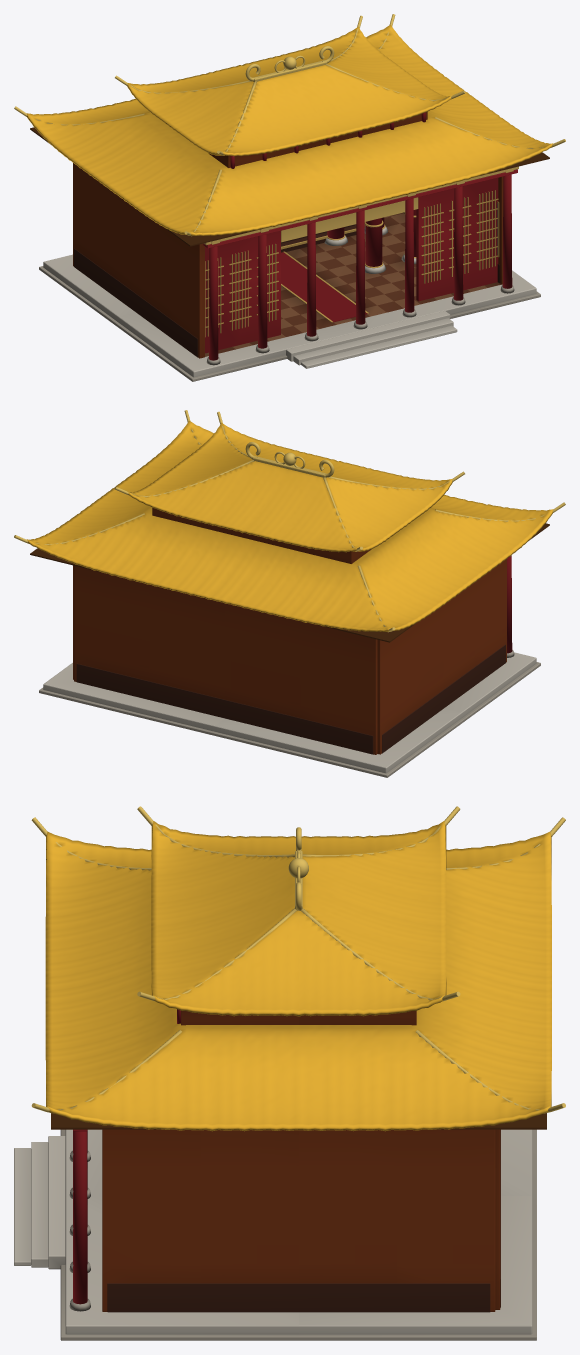
File: tai-than.glb
3 views of the same model, one above another, from view 1: azimuth 30°, elevation 25°; view 2: azimuth 150°, elevation 25°; view 3: azimuth 270°, elevation 25° (orthographic). The views are drawn at different scales.
Visible parts, largest first — view 1: tai-than-shell; view 2: tai-than-shell; view 3: tai-than-shell.
Boxes of the visible parts, x1,y1,x2,y2 form: tai-than-shell: (14, 14, 565, 381); tai-than-shell: (14, 410, 565, 777); tai-than-shell: (14, 806, 565, 1340).
Bounding box in the file's own units: 27.76 × 15.87 × 22.48.
